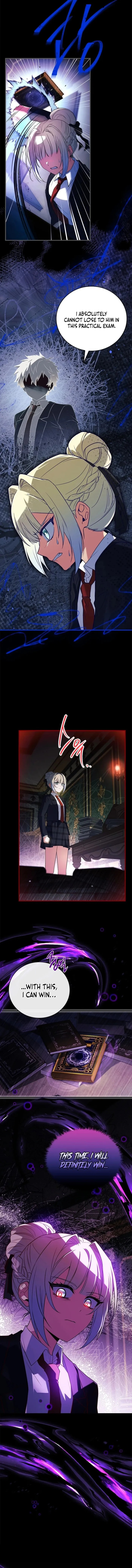bubbles: (55, 286, 129, 364), (43, 1126, 122, 1191), (7, 961, 74, 1019)
